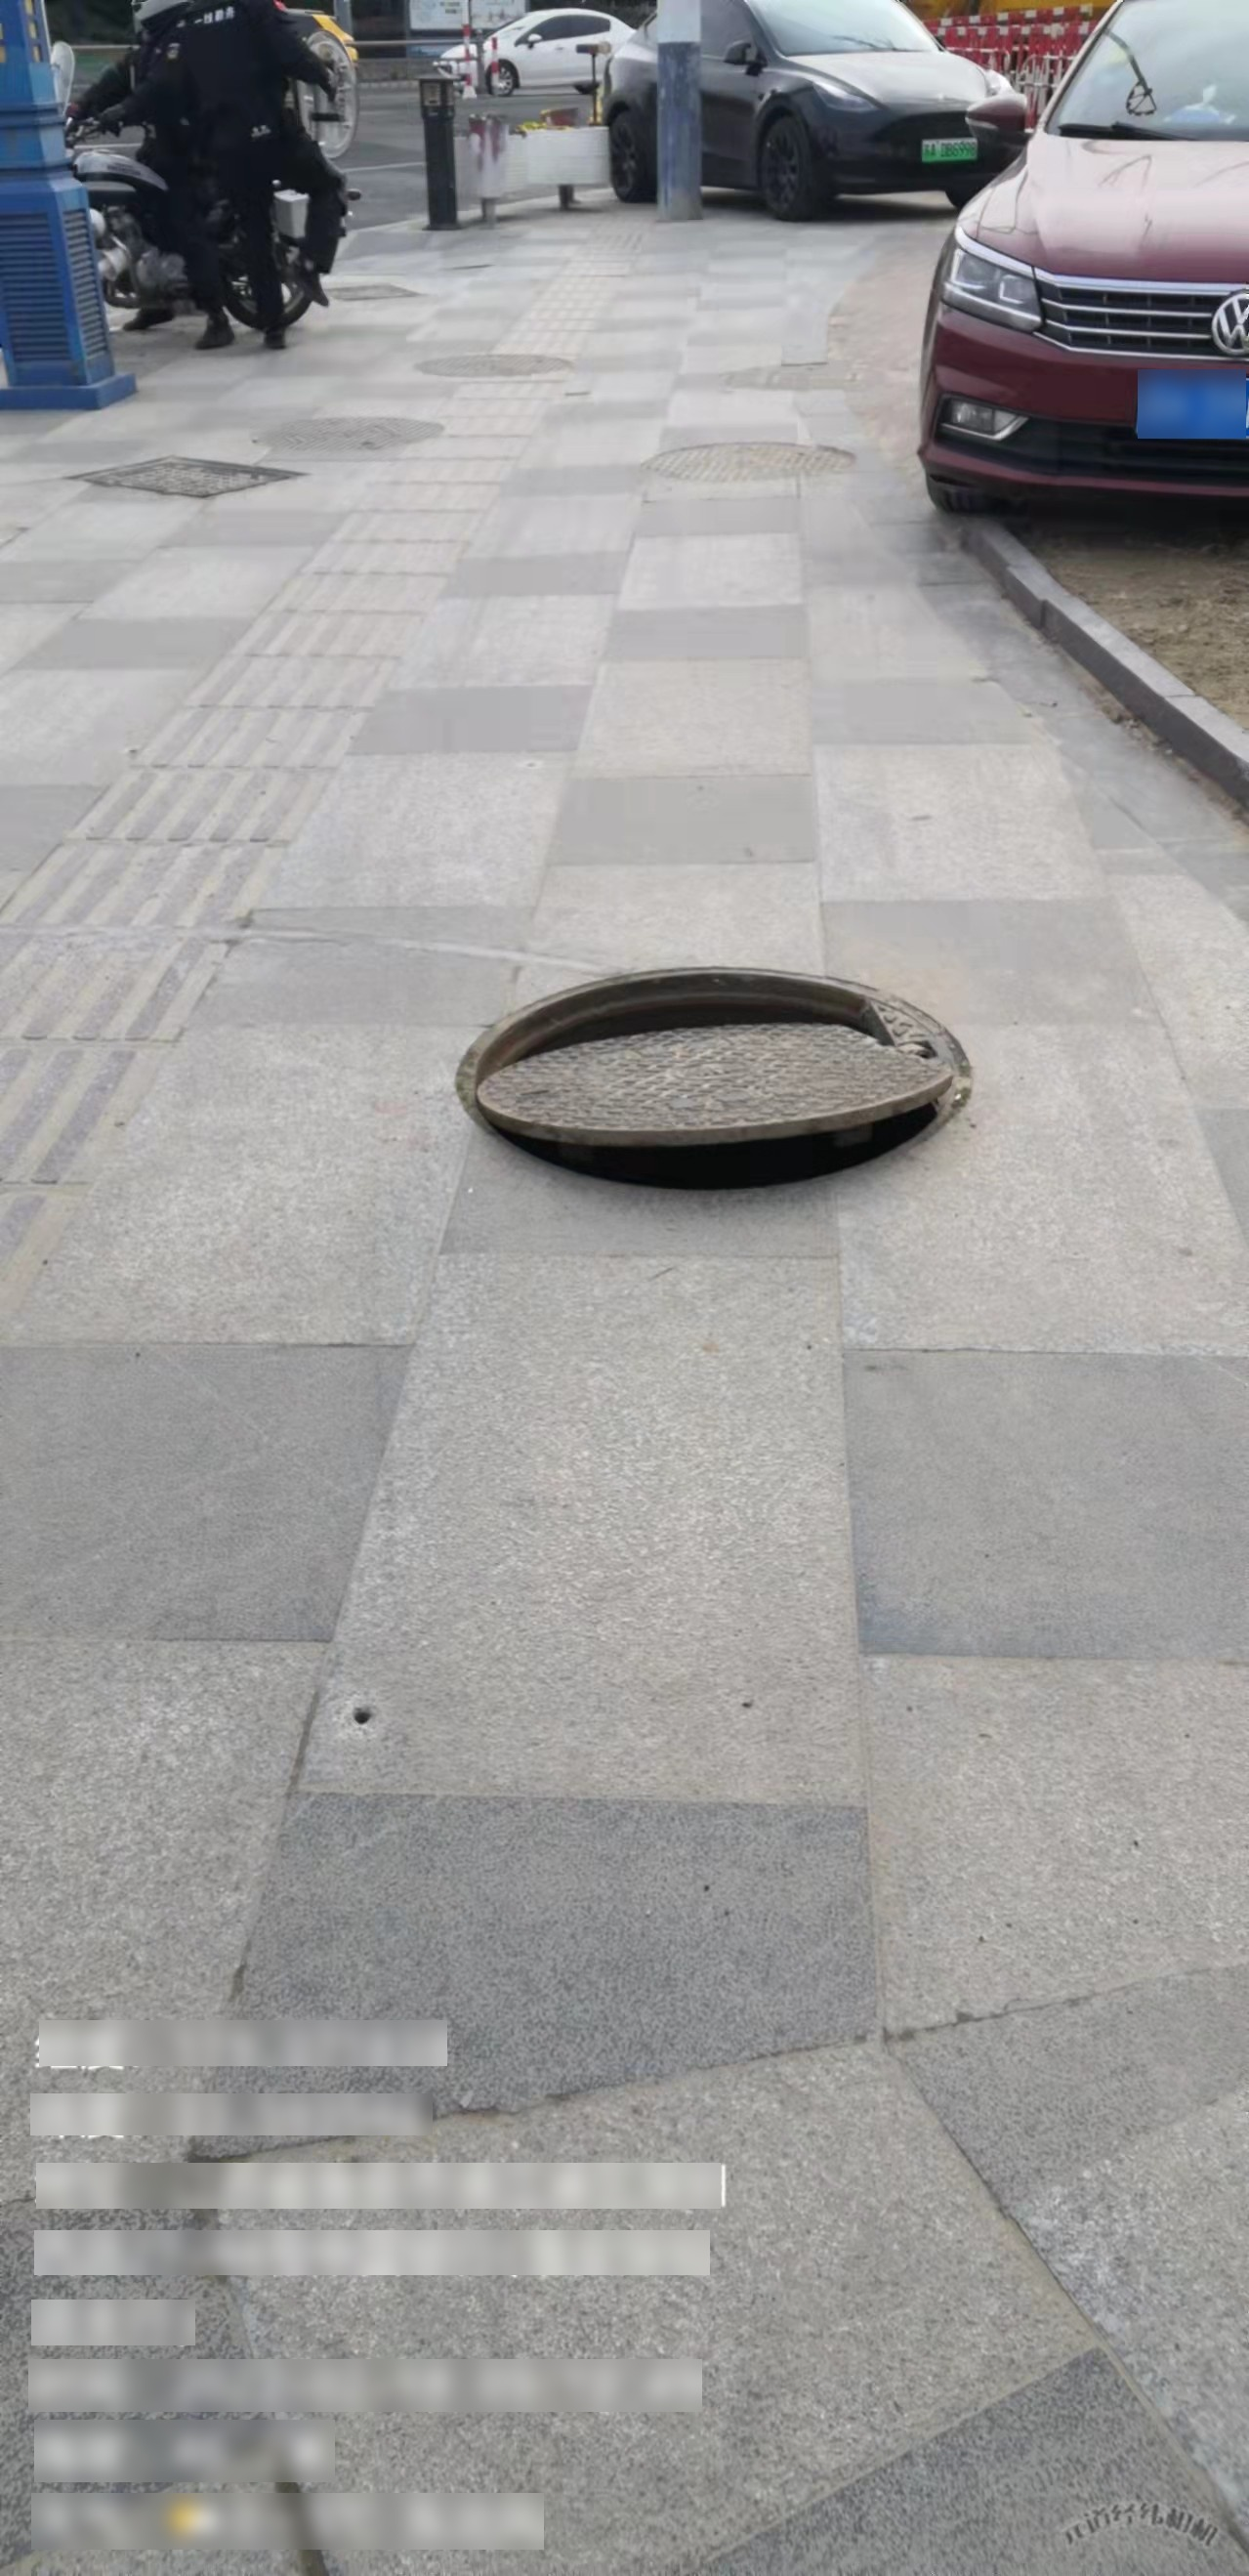uncovered: (458, 968, 978, 1209)
